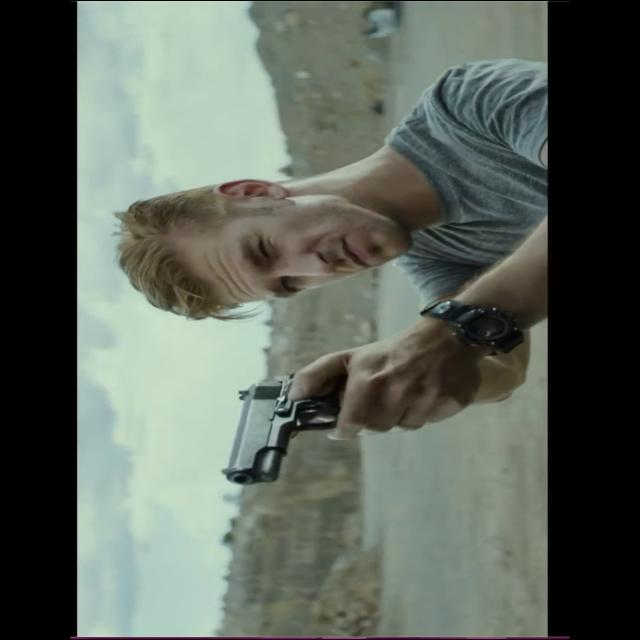weapons: (197, 362, 392, 496)
